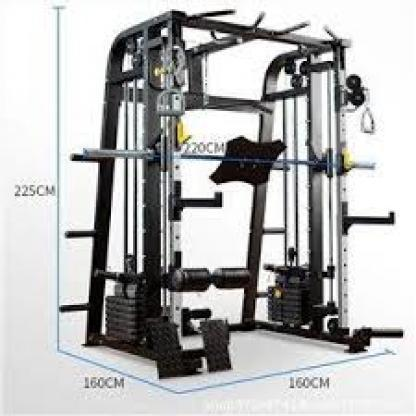smith machine: (62, 6, 378, 374)
